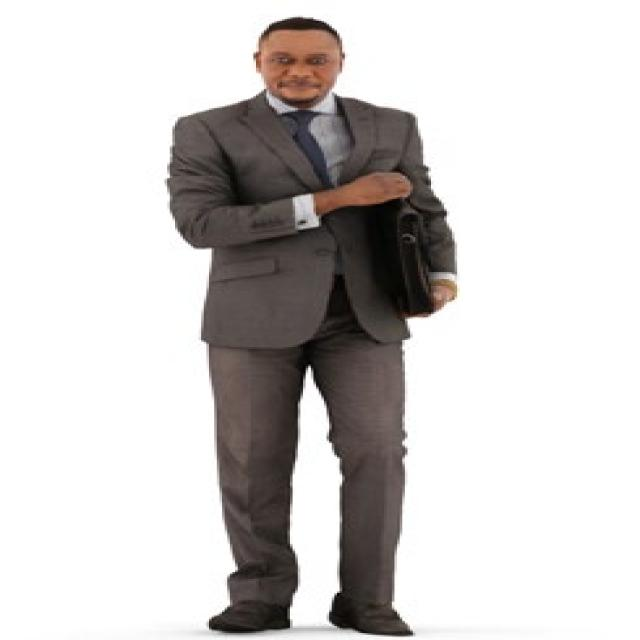standing: (161, 12, 463, 640)
